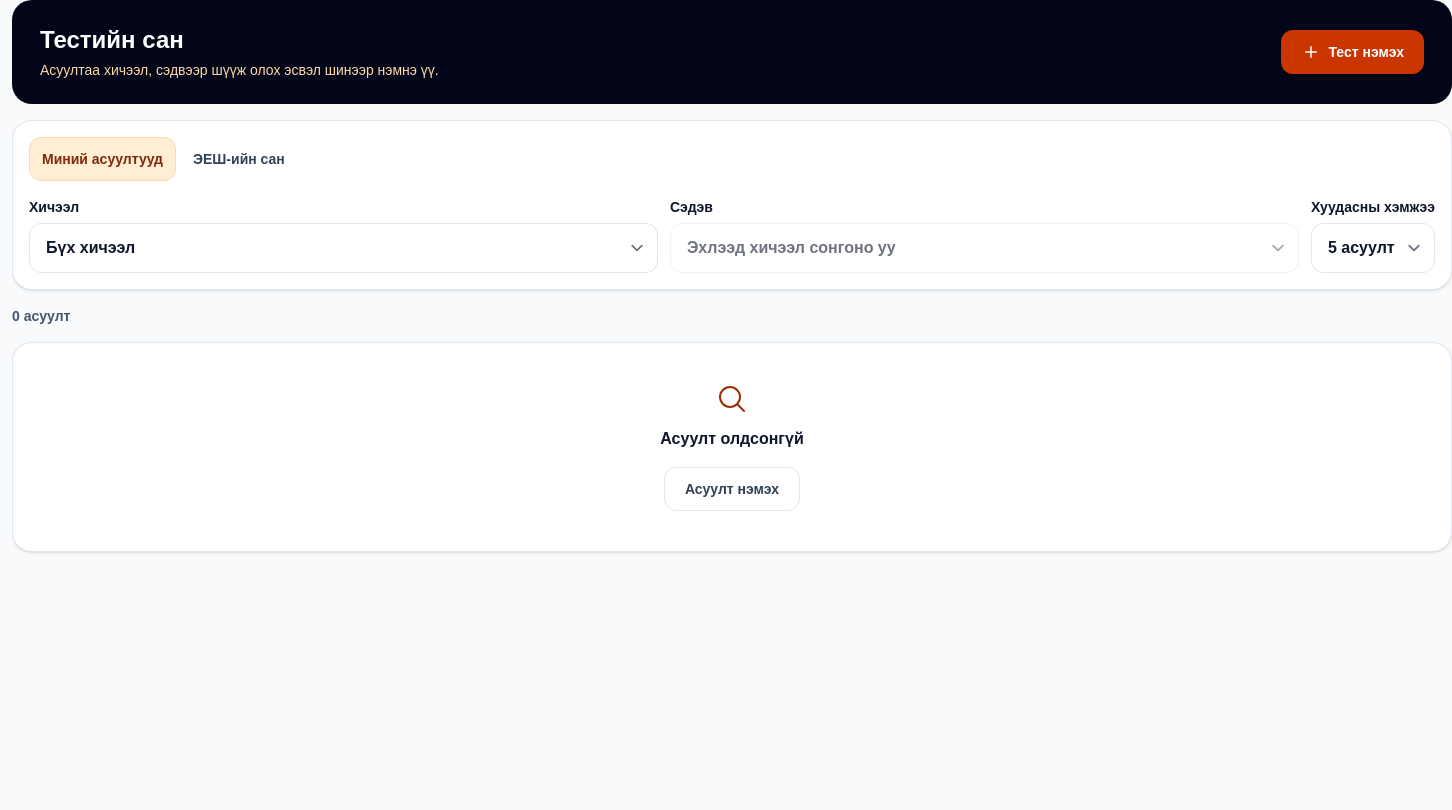
Test: offers subject and topic filters and resets them when switching banks
This screenshot has width=1452, height=810.
Expected: the text "Асуулт олдсонгүй" is shown, [660,427,804,451]
Select "Математик" in the dropdown labelled "Хичээл" at (344, 248), box [29,223,658,273]
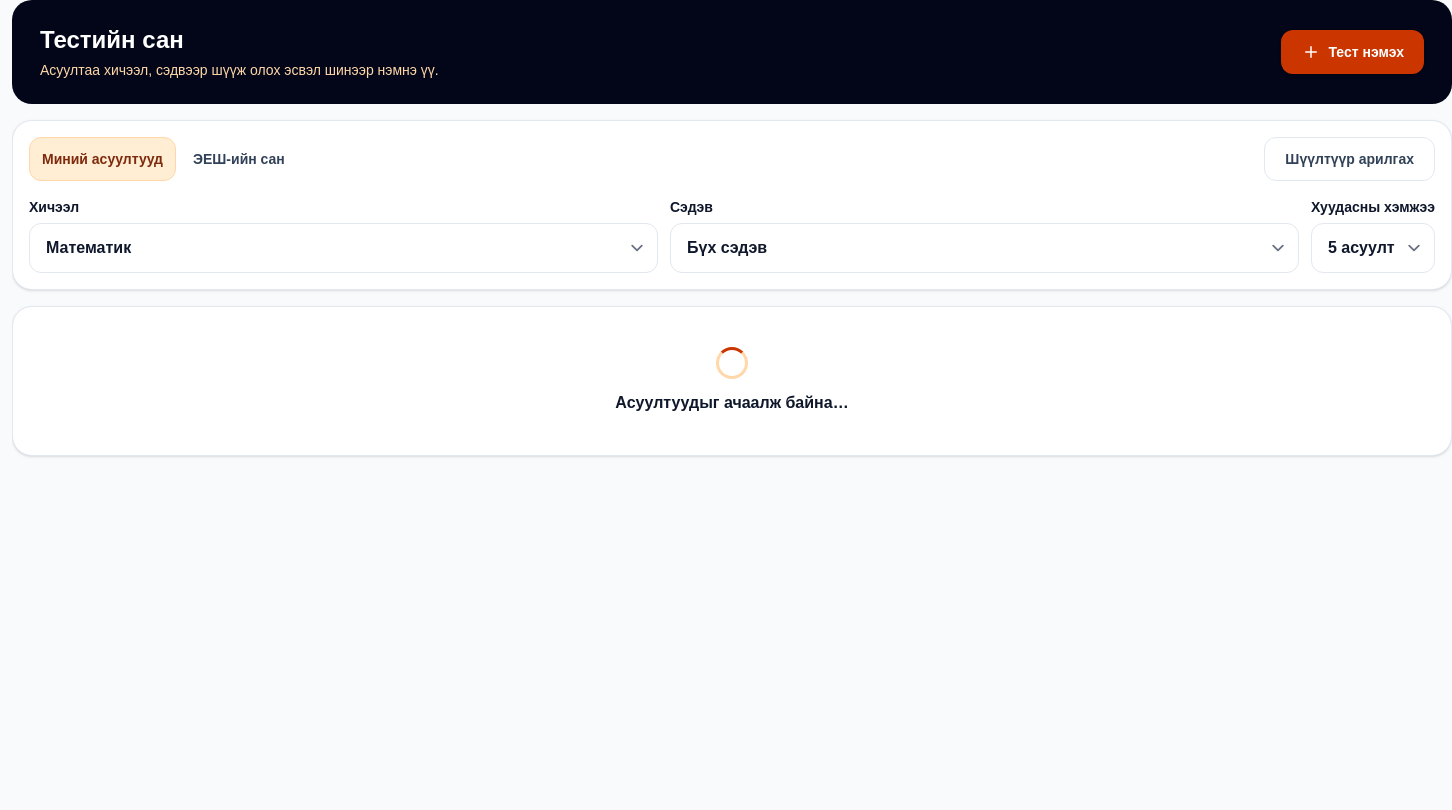
Select "Бутархай" in the dropdown labelled "Сэдэв" at (984, 248), box [670,223,1299,273]
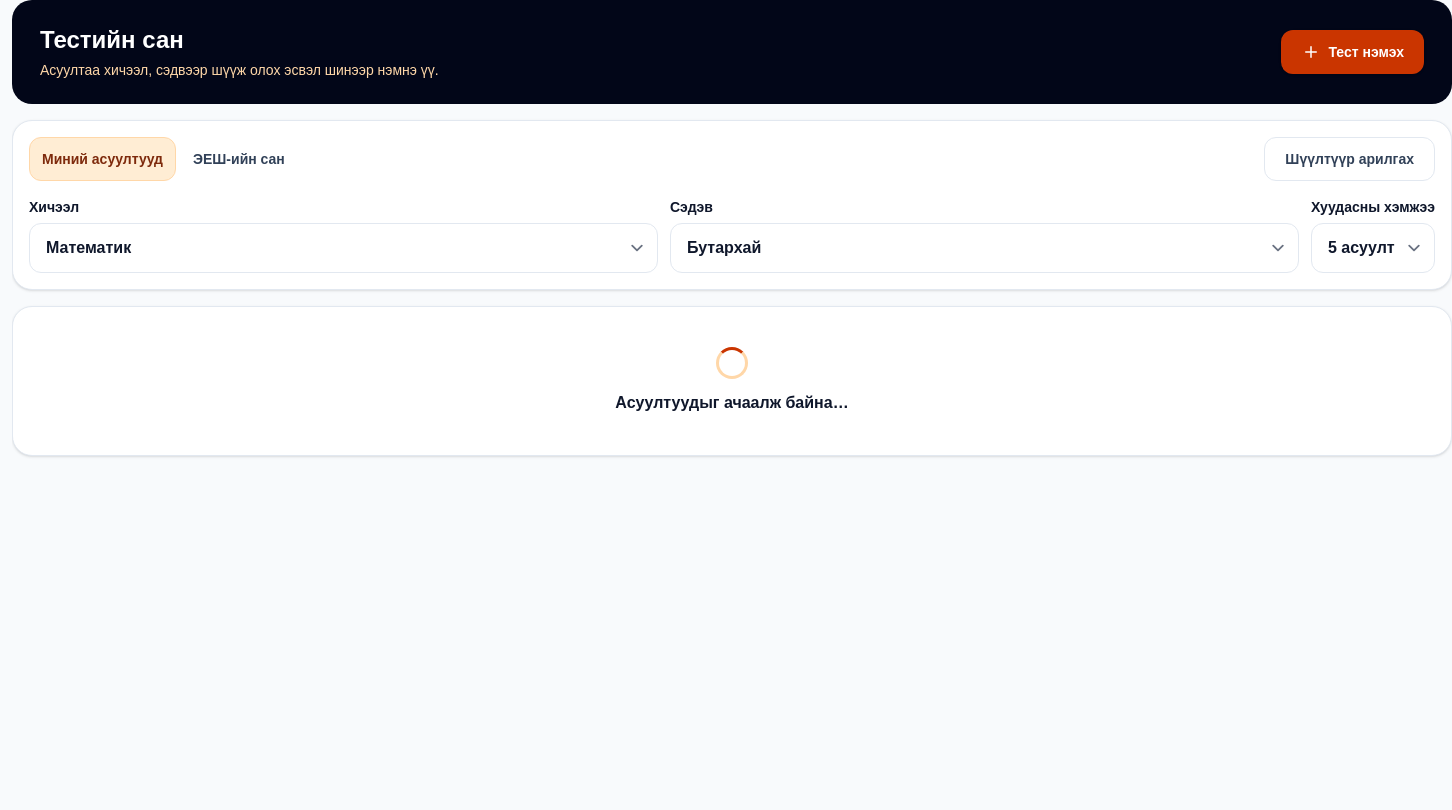
Click the button "ЭЕШ-ийн сан" at (239, 159), box [180,137,298,181]
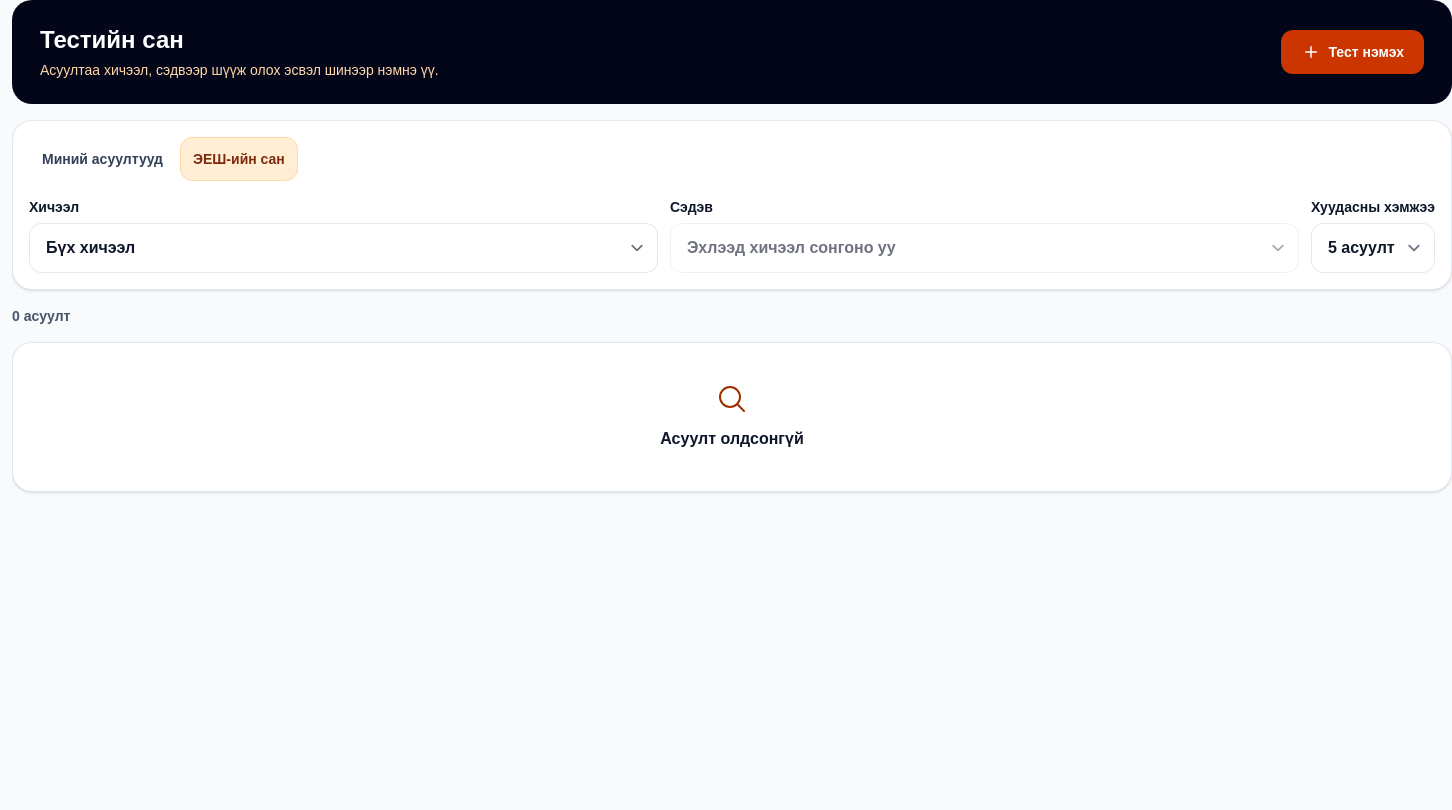
Expected: the dropdown labelled "Сэдэв" is disabled, [670,223,1299,273]
Expected: the text "Асуулт олдсонгүй" is shown, [660,427,804,451]
